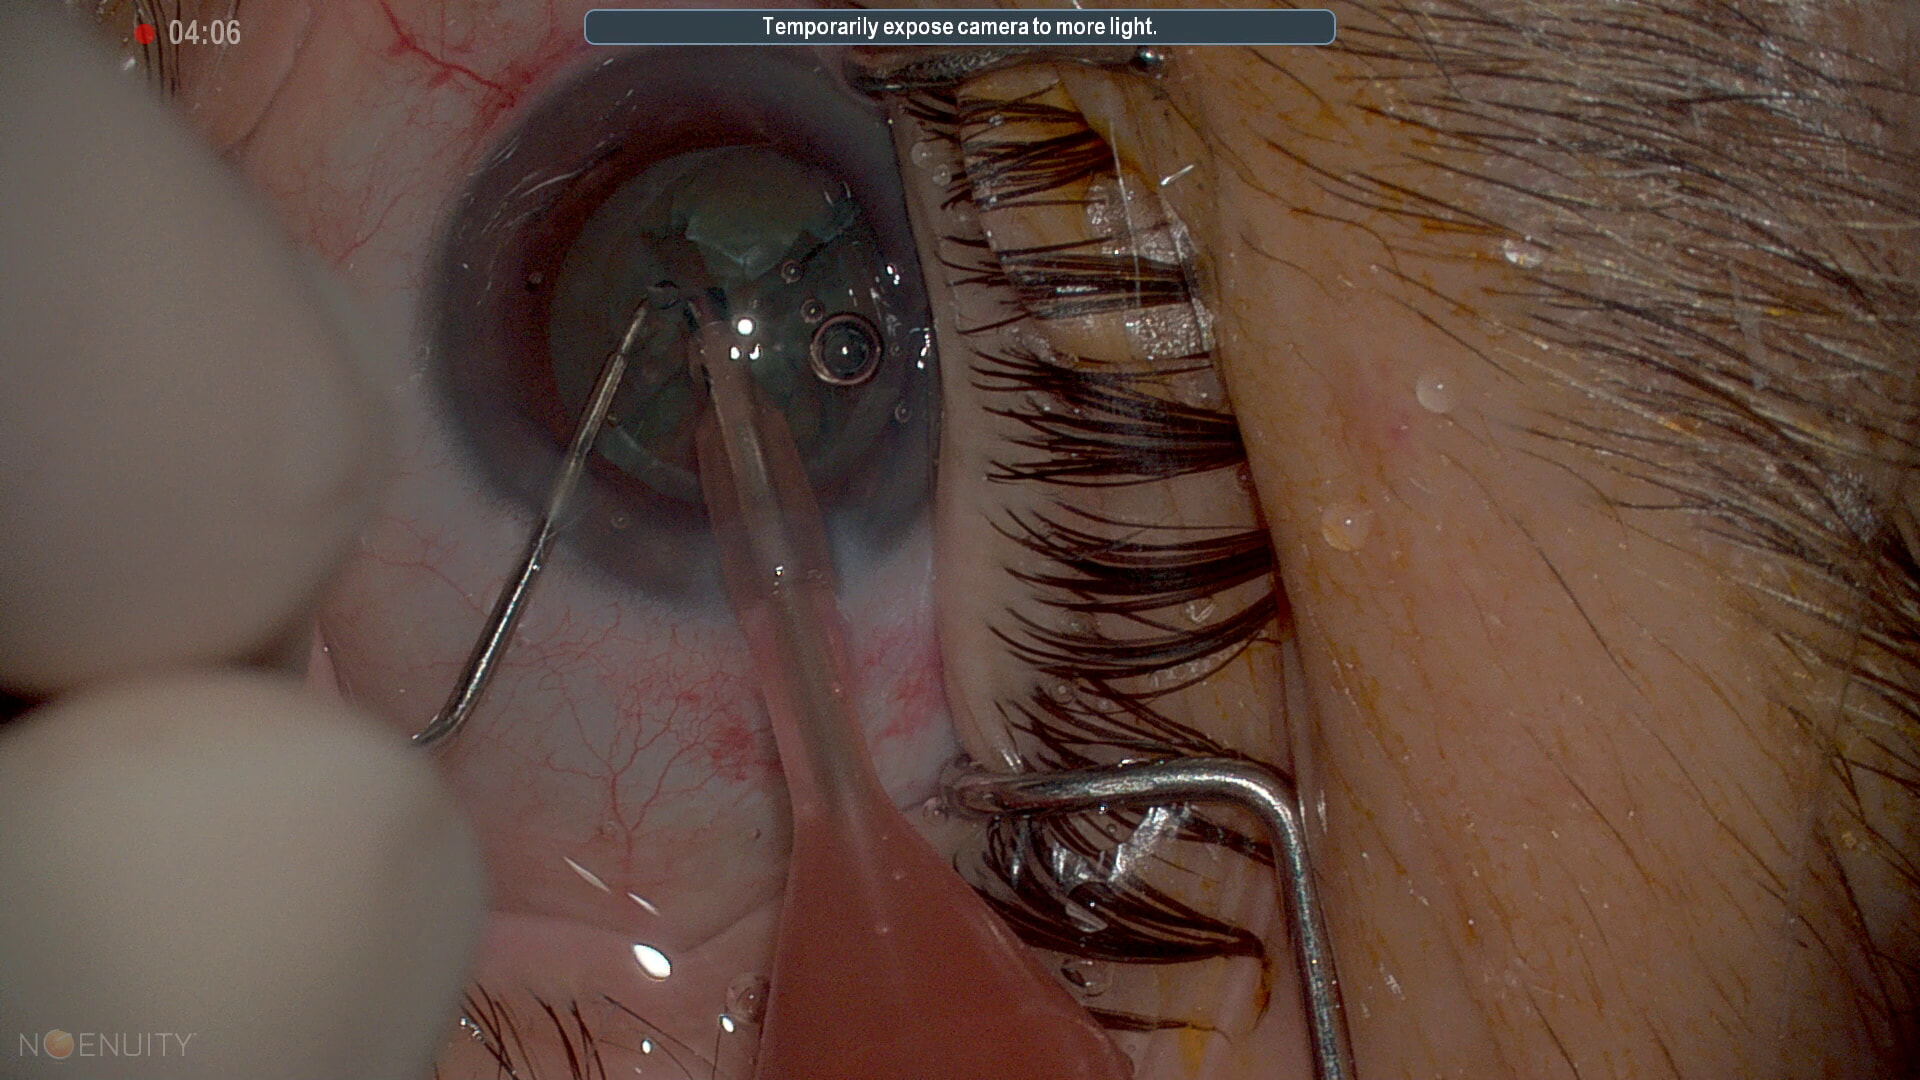iris: (440, 50, 945, 595)
pupil: (554, 143, 905, 490)
